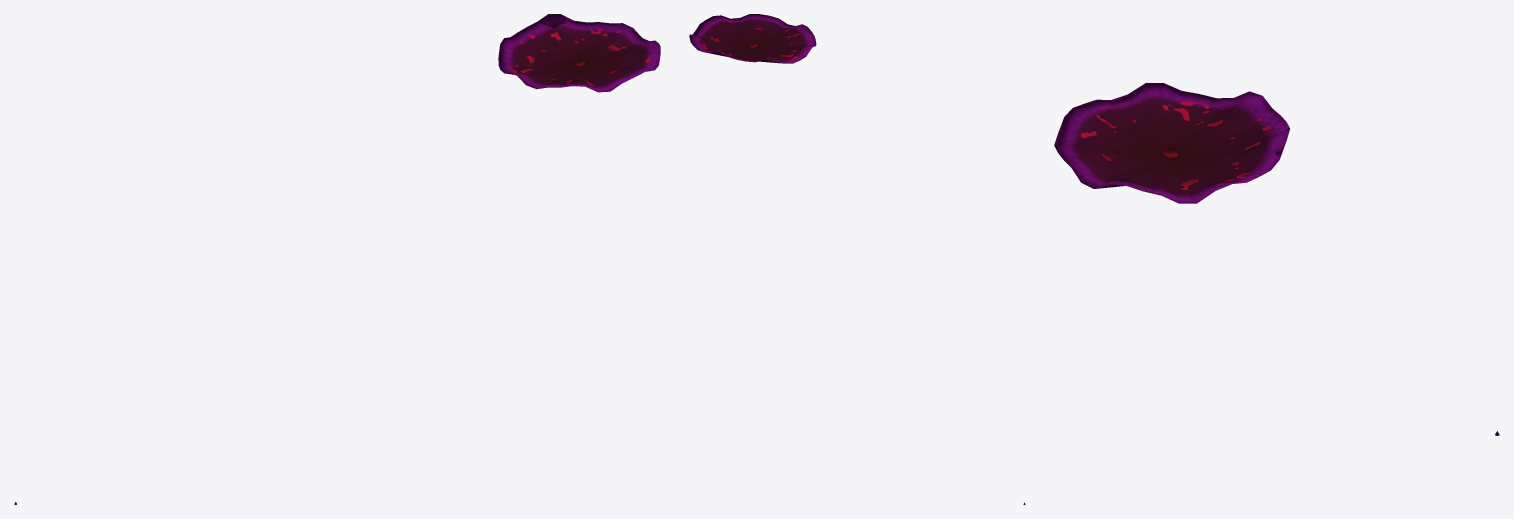
File: elephant_ear.glb
3 views of the same model, side by side, from view 1: azimuth 30°, elevation 25°; view 2: azimuth 150°, elevation 25°; view 3: azimuth 270°, elevation 25° (orthographic). The views are drawn at different scales.
Visible parts, largest first — view 1: Body; view 2: Body; view 3: Body.
Part boxes in pixels (bbox=[...]): Body: bbox=[498, 14, 660, 92]; Body: bbox=[689, 14, 816, 63]; Body: bbox=[1054, 82, 1289, 203].
Bounding box in the file's own units: 47.61 × 36.4 × 22.41.
2 materials, 2 textured.
